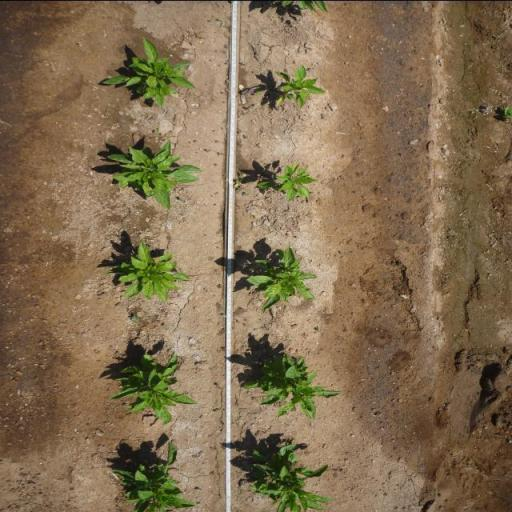plant: (240, 350, 344, 420), (101, 139, 202, 207), (108, 350, 198, 426), (245, 437, 336, 512), (101, 36, 199, 103), (109, 437, 196, 512), (100, 242, 191, 303), (243, 244, 319, 310), (256, 161, 318, 202), (273, 66, 326, 110)
weed: (232, 172, 248, 190), (242, 100, 261, 110), (152, 124, 166, 135), (128, 315, 140, 322), (469, 108, 480, 114), (212, 404, 220, 412), (255, 85, 261, 95), (307, 65, 315, 71), (215, 302, 222, 308), (208, 255, 214, 262), (316, 326, 323, 332), (204, 147, 212, 152), (220, 327, 225, 334), (140, 25, 148, 29), (217, 282, 222, 288), (283, 67, 289, 72), (233, 240, 238, 244), (178, 198, 184, 200)
